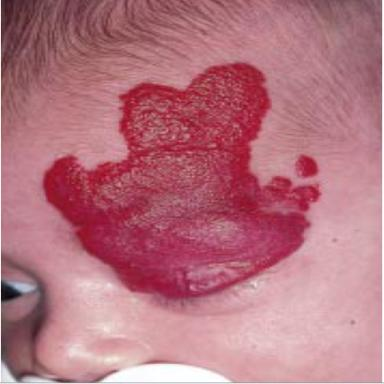Hemangiome: (44, 63, 320, 297), (296, 155, 317, 177)
